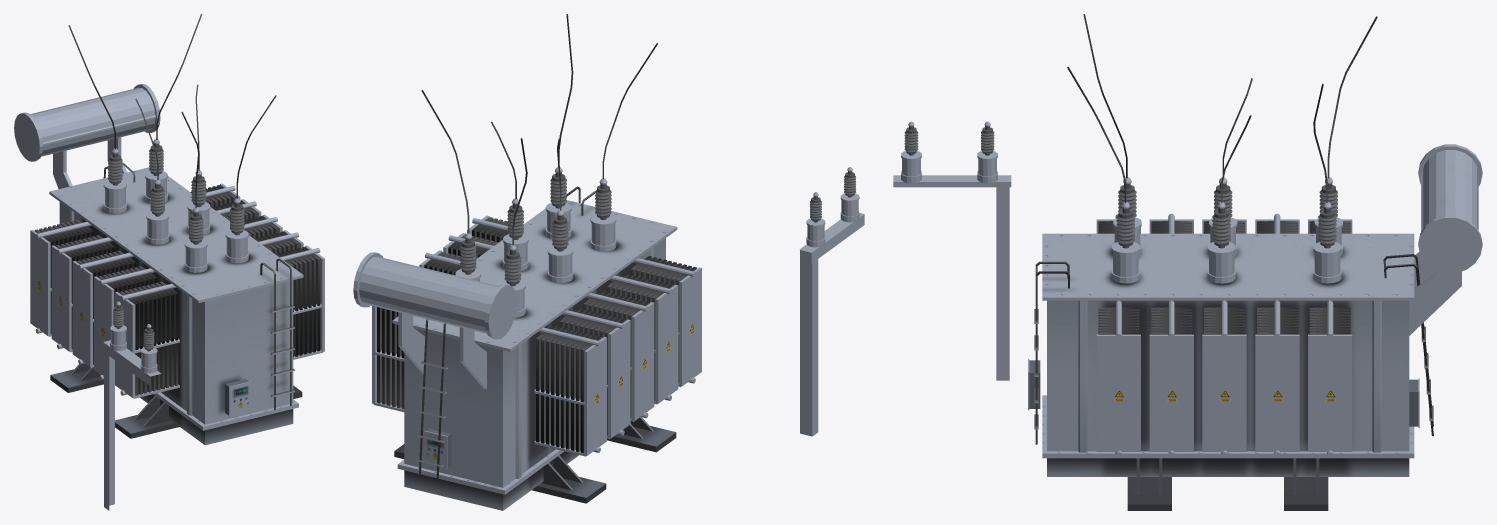
Rendered from 变压器.obj.
The picture shows the model from 3 angles, left to right: view 1: azimuth 30°, elevation 25°; view 2: azimuth 150°, elevation 25°; view 3: azimuth 270°, elevation 25°; orthographic projection. The views are drawn at different scales.
Visible parts, largest first — view 1: Box1829, Box1841, Cylinder059, Box2072, Box1881, Box2046, Box2133, Box2098, Box2124, Cylinder060, Box1840, Box1848 (+29 smaller); view 2: Box1829, Box1841, Cylinder059, Box2133, Box2072, Box2098, Box2124, Box2046, Box1881, Cylinder060, Box1840, Box1847 (+18 smaller); view 3: Box1829, Box1841, Box2059, Box2033, Box2085, Box2020, Box2111, Cylinder059, Box1840, Cylinder062, Box2133, Line053 (+5 smaller).
Boxes of the visible parts, box(x1,y1,x2,y2) form: Box1829: box(59, 202, 293, 445); Box1841: box(49, 167, 303, 303); Cylinder059: box(30, 87, 155, 156); Box2072: box(72, 261, 92, 367); Box1881: box(30, 230, 50, 336); Box2046: box(51, 245, 71, 351); Box2133: box(104, 343, 114, 510); Box2098: box(94, 276, 114, 376); Box2124: box(115, 292, 135, 398); Cylinder060: box(14, 112, 43, 161); Box1840: box(153, 392, 298, 430); Box1848: box(115, 385, 302, 438); Box1829: box(404, 238, 665, 510); Box1841: box(392, 200, 677, 351); Cylinder059: box(359, 256, 498, 333); Box2133: box(800, 250, 818, 436); Box2072: box(631, 302, 654, 421); Box2098: box(655, 284, 678, 403); Box2124: box(679, 267, 701, 386); Box2046: box(608, 319, 630, 438); Box1881: box(584, 336, 606, 455); Cylinder060: box(484, 284, 517, 339); Box1840: box(397, 449, 563, 494); Box1847: box(394, 444, 606, 503); Box1829: box(1047, 300, 1409, 476); Box1841: box(1042, 233, 1414, 300); Box2059: box(1202, 334, 1246, 451); Box2033: box(1149, 334, 1193, 451); Box2085: box(1255, 334, 1299, 451); Box2020: box(1096, 334, 1140, 451); Box2111: box(1308, 334, 1352, 451); Cylinder059: box(1422, 150, 1478, 230); Box1840: box(1042, 395, 1414, 458); Cylinder062: box(1418, 215, 1482, 273); Box2133: box(996, 182, 1009, 380); Line053: box(1409, 270, 1461, 335).
Bounding box in the file's own units: 477 × 608 × 750.
